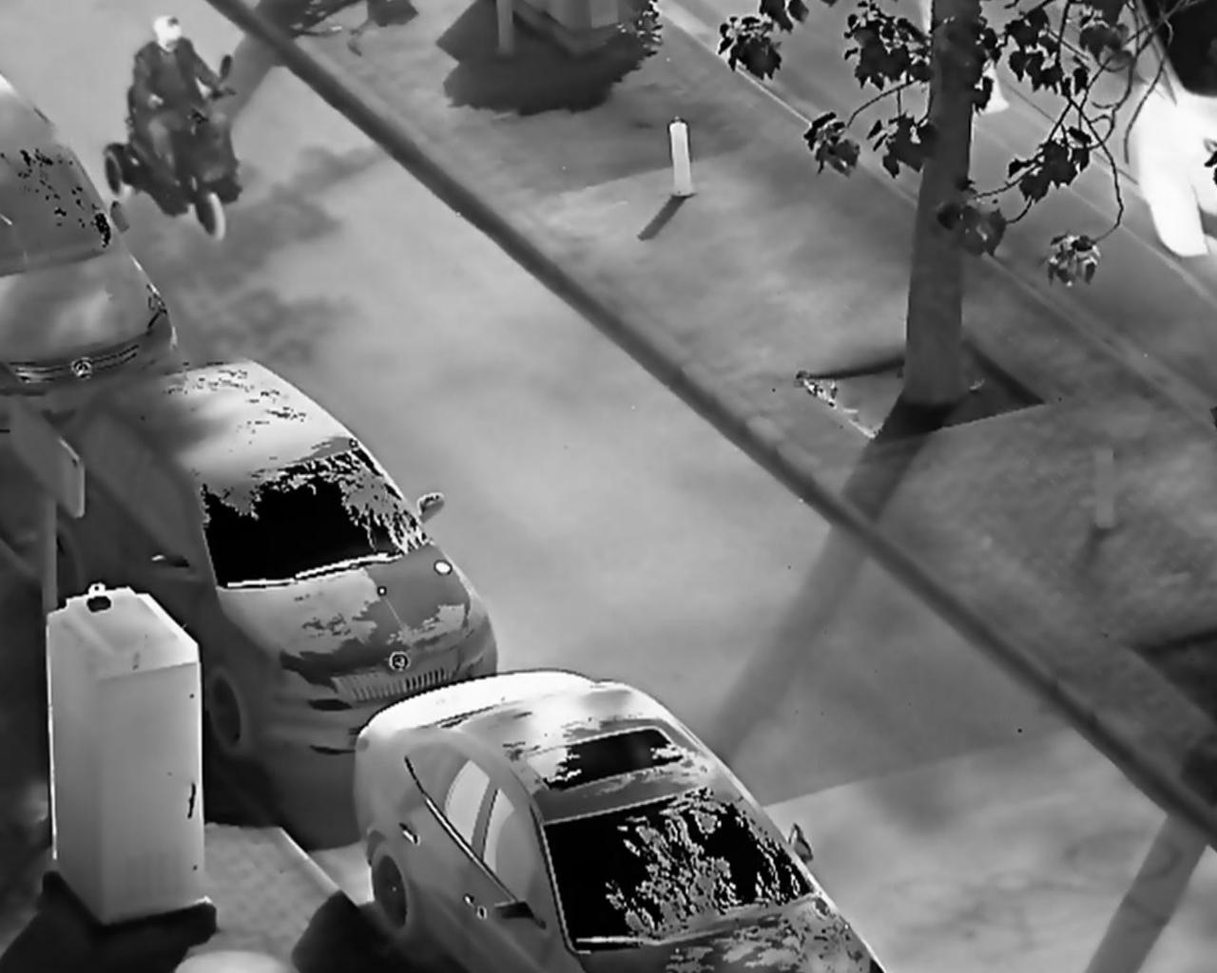person: (125, 11, 235, 217)
